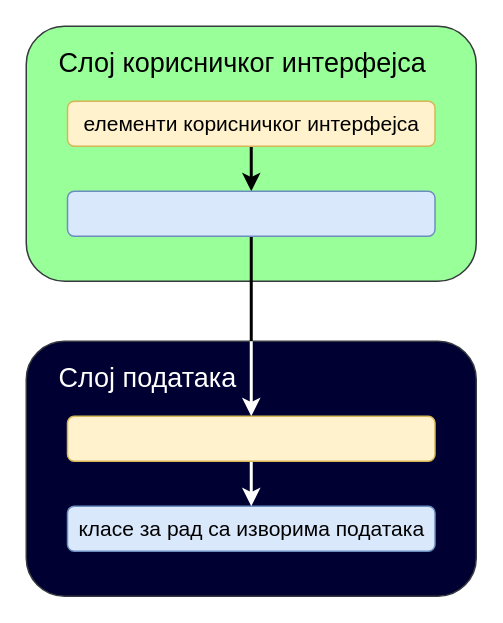
This 503x623 diagram has some shape labels left out. Each missing label, with the centre of its shape:
класе репозиторијума: (x=250, y=438)
класе чувара стања: (x=250, y=213)
